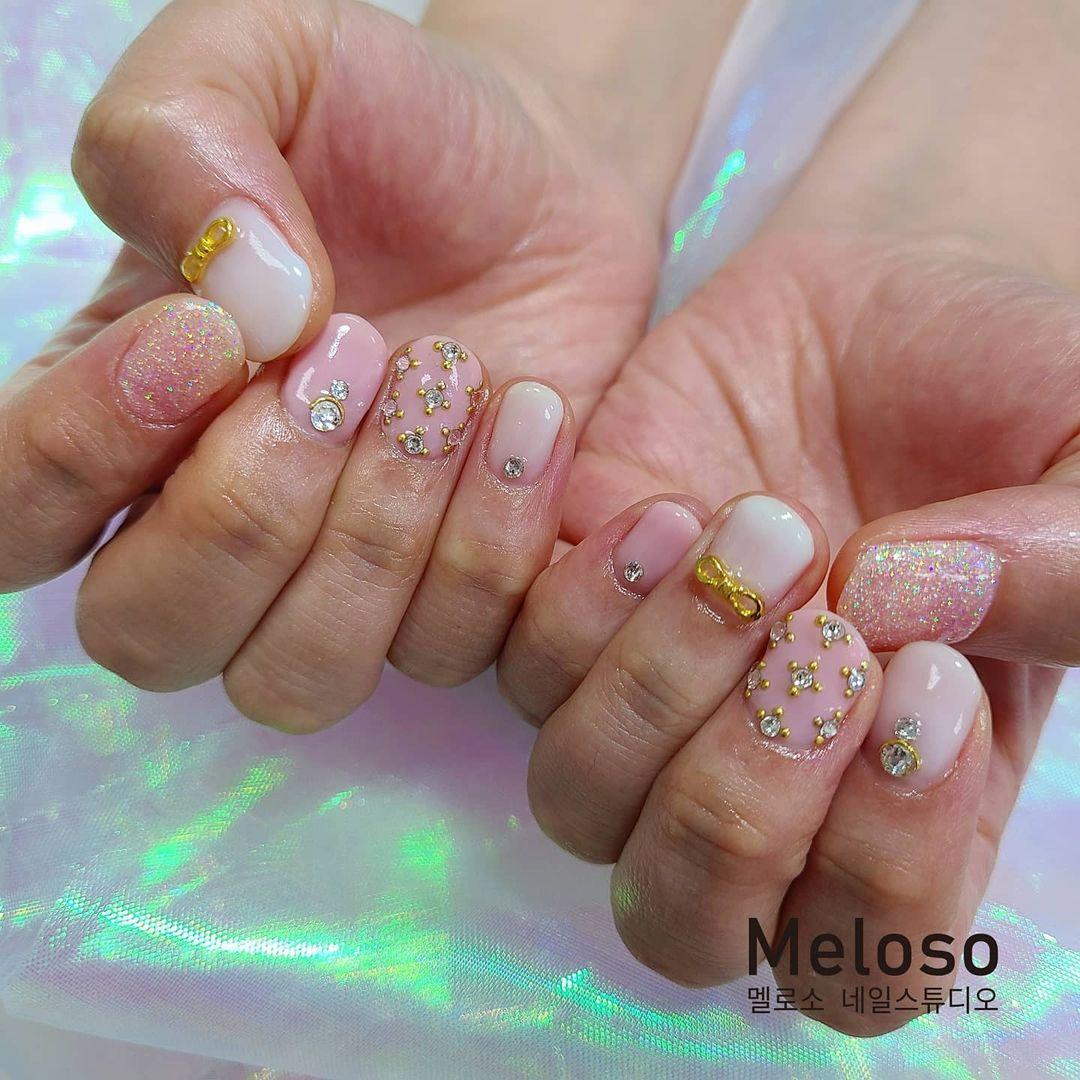nail: (177, 193, 315, 363), (832, 535, 1002, 651), (863, 639, 983, 796), (112, 292, 245, 430), (688, 489, 820, 625), (374, 333, 490, 465), (279, 310, 388, 448), (607, 495, 708, 599), (482, 377, 566, 487)
